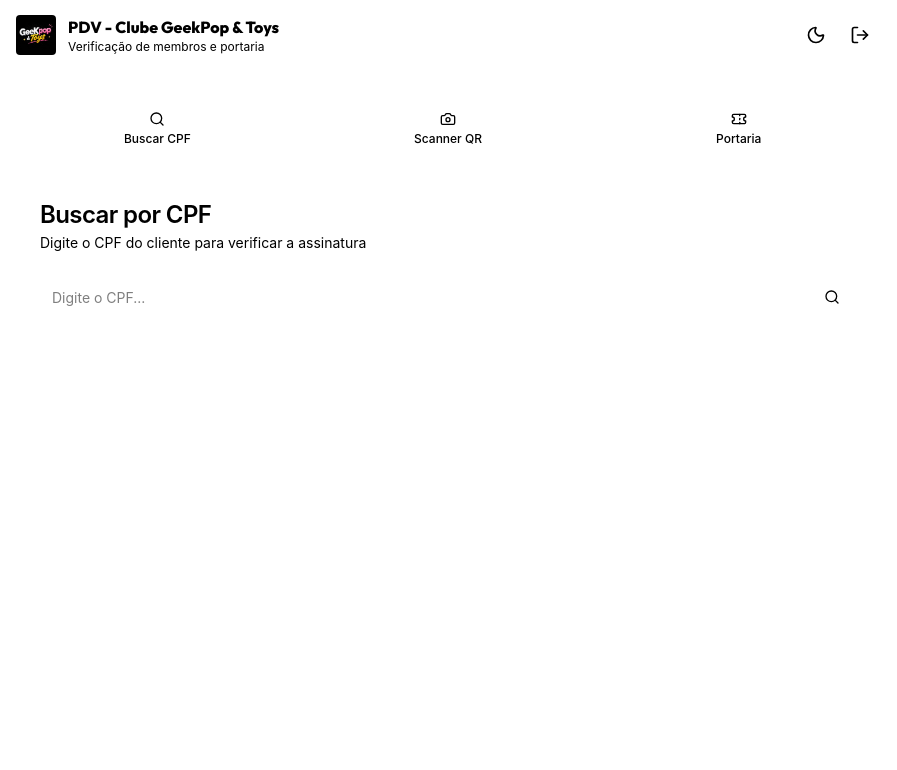
PDV › shows the 10% product discount for active member
Type "12345678901" into the field with placeholder "Digite o CPF...".
click(420, 297); type("12345678901")  # box left=40, top=277, right=800, bottom=317
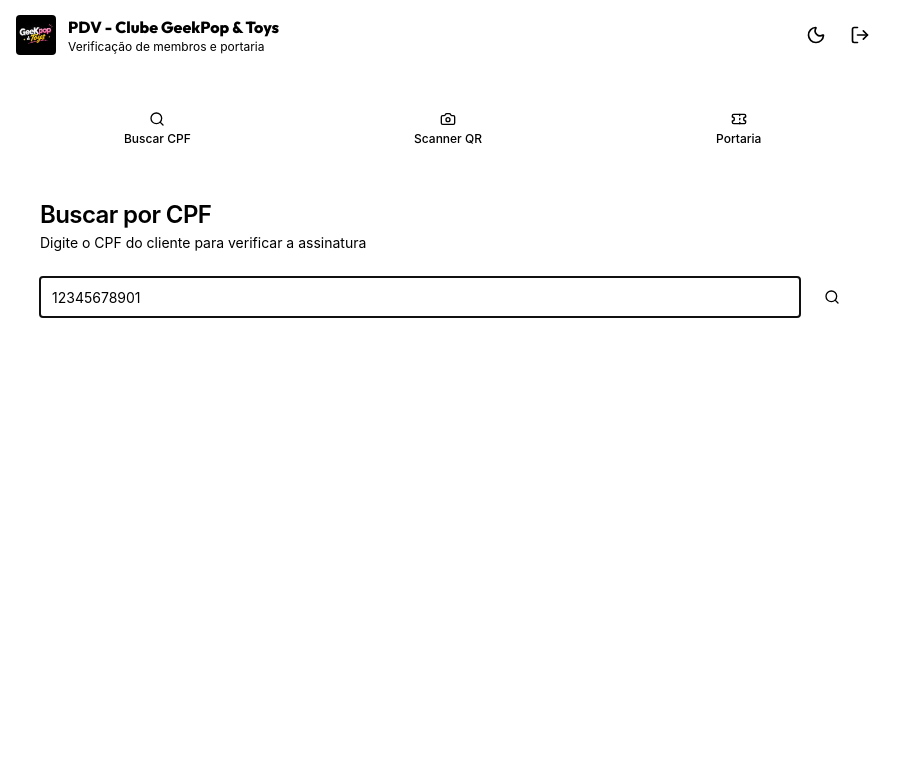
Submit the form with placeholder "Digite o CPF...", box left=40, top=277, right=856, bottom=317
(page scrolled)
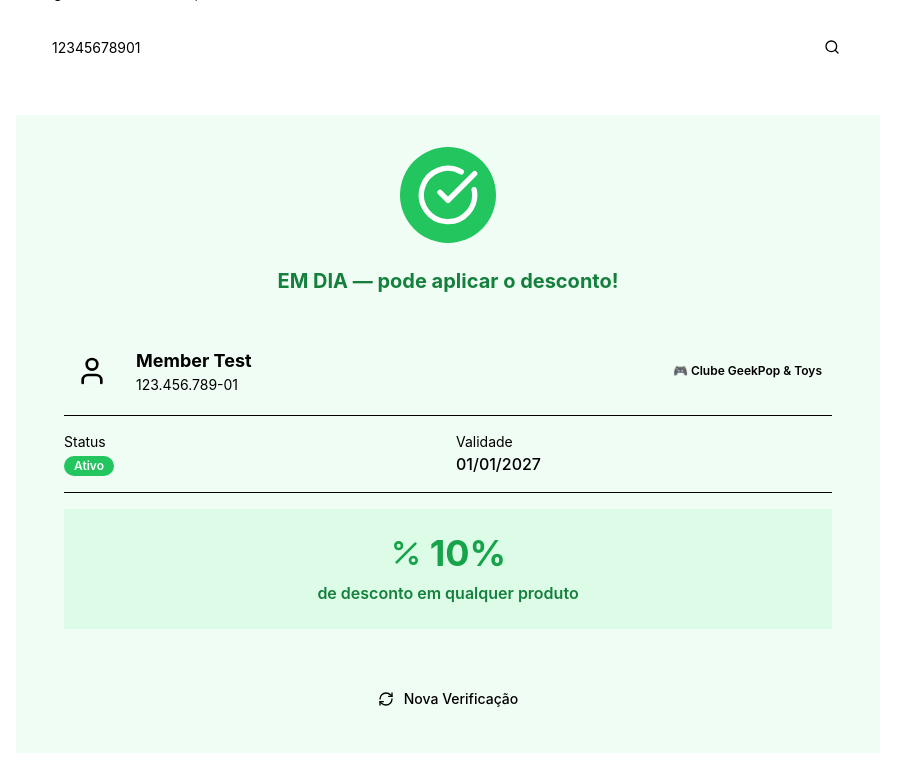
Now the text "10%" is shown, box left=430, top=533, right=506, bottom=573
Now the text "de desconto em qualquer produto" is shown, box left=317, top=581, right=579, bottom=605
